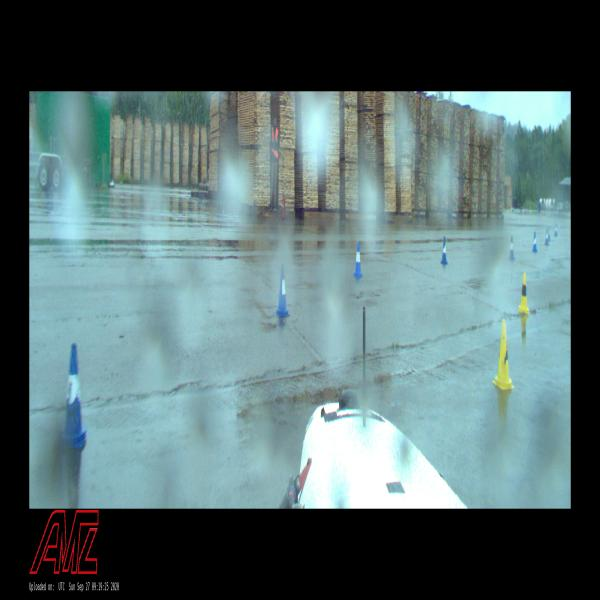blue_cone: (60, 344, 88, 446), (275, 266, 290, 316), (353, 241, 363, 277), (440, 237, 448, 264), (508, 237, 514, 259), (532, 232, 538, 252), (544, 230, 548, 245), (548, 226, 550, 242), (555, 225, 557, 236)
yellow_cone: (492, 320, 514, 389), (518, 273, 529, 313)
